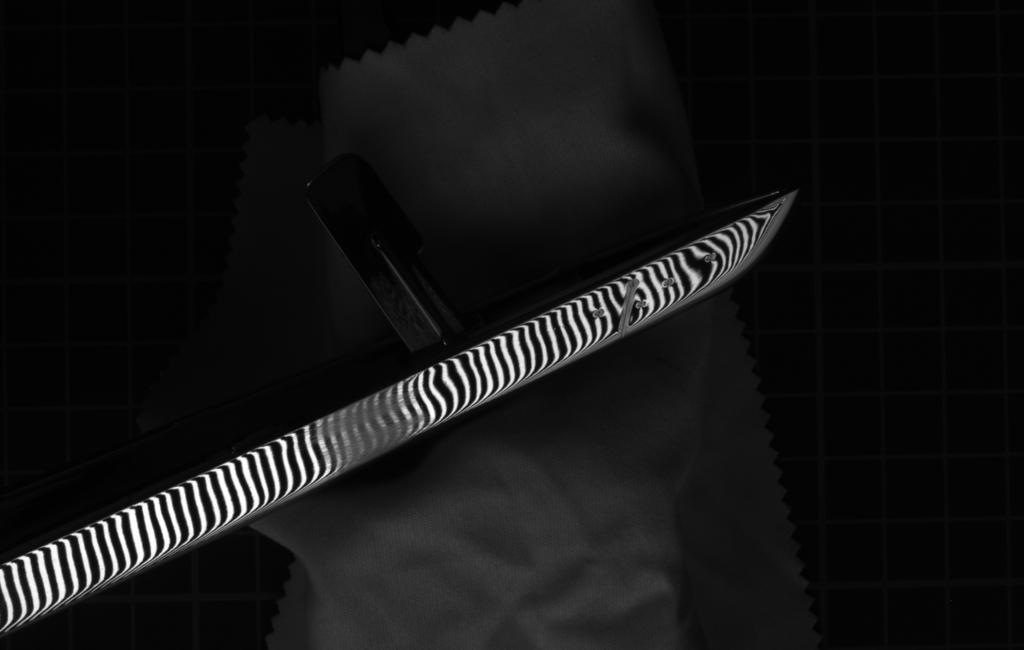Pierced: (656, 272, 679, 293), (586, 303, 611, 322), (701, 248, 722, 266), (632, 296, 652, 311)
Pitting: (296, 370, 440, 481)
Scratch: (610, 274, 646, 342)
